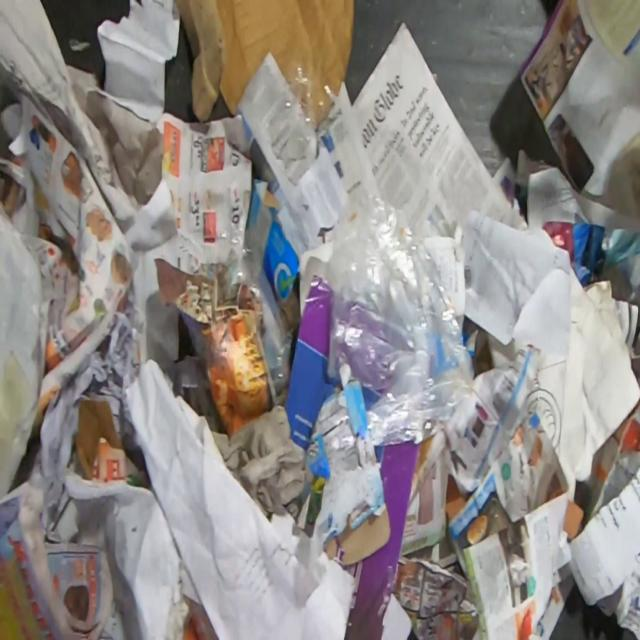cardboard: (152, 257, 276, 445), (172, 0, 356, 125), (304, 363, 392, 566), (342, 442, 418, 640), (285, 255, 340, 460), (247, 178, 300, 332), (69, 399, 122, 479), (361, 380, 380, 405)
rigid_plastic: (264, 58, 342, 163)
soft_plastic: (326, 182, 478, 445), (216, 221, 290, 393)
